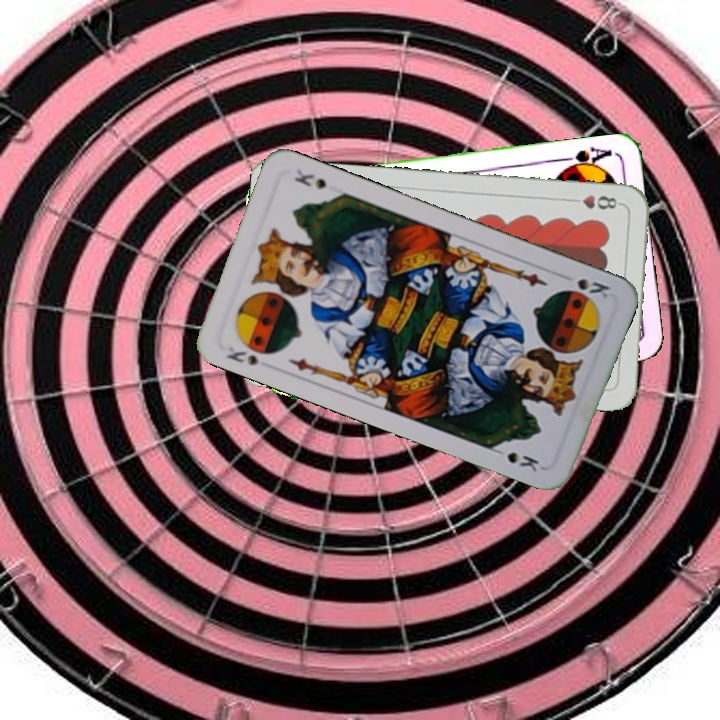H8: (565, 191, 624, 212)
SA: (557, 143, 615, 174)
SK: (573, 274, 613, 301), (222, 342, 260, 369)
